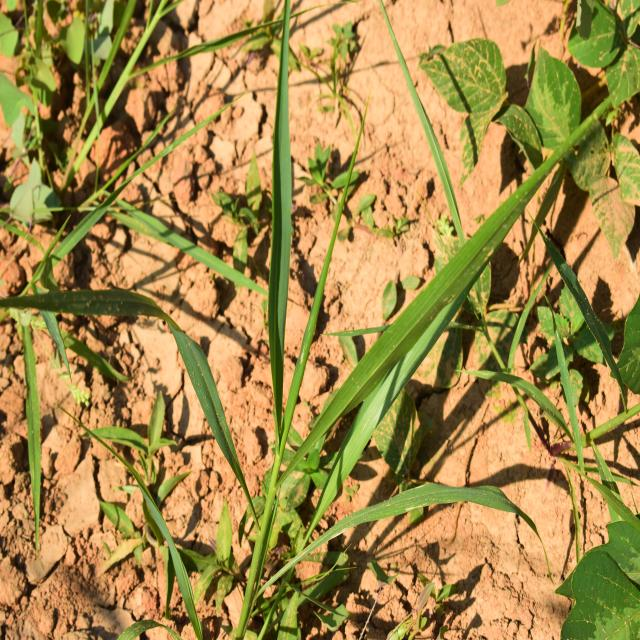green_foxtail: (200, 63, 520, 533)
